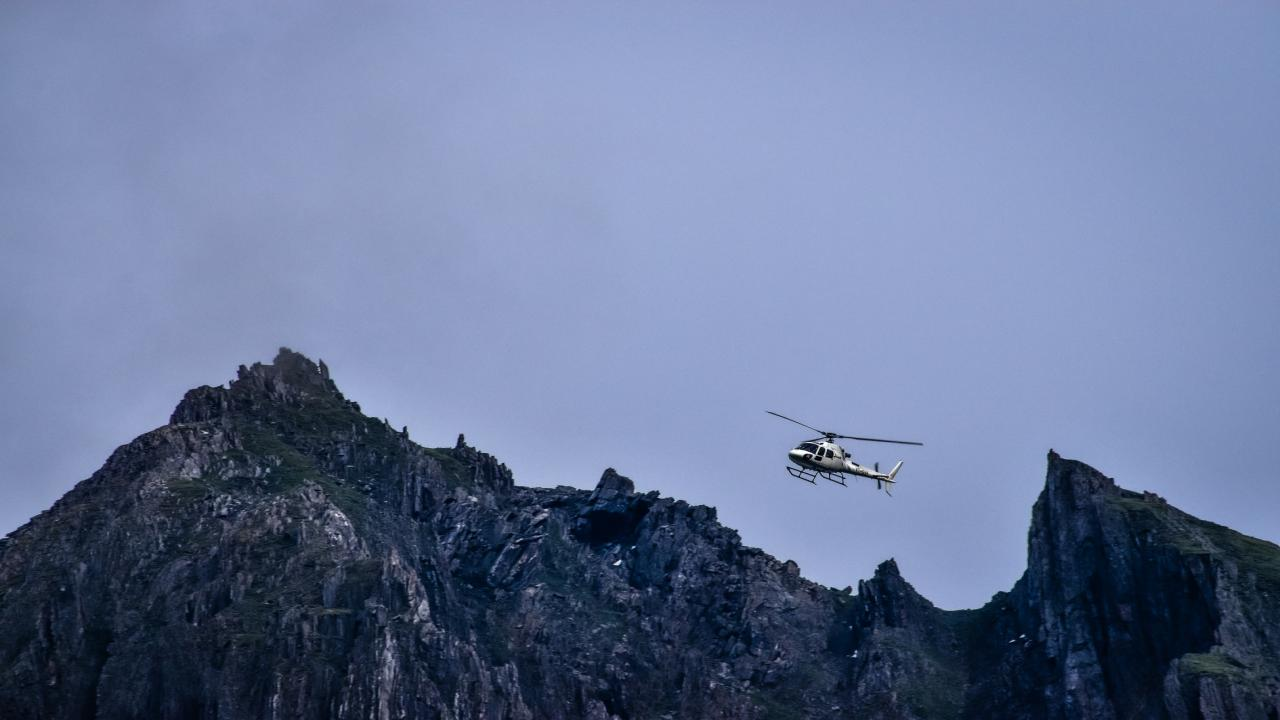Helicopter: (751, 400, 930, 503)
